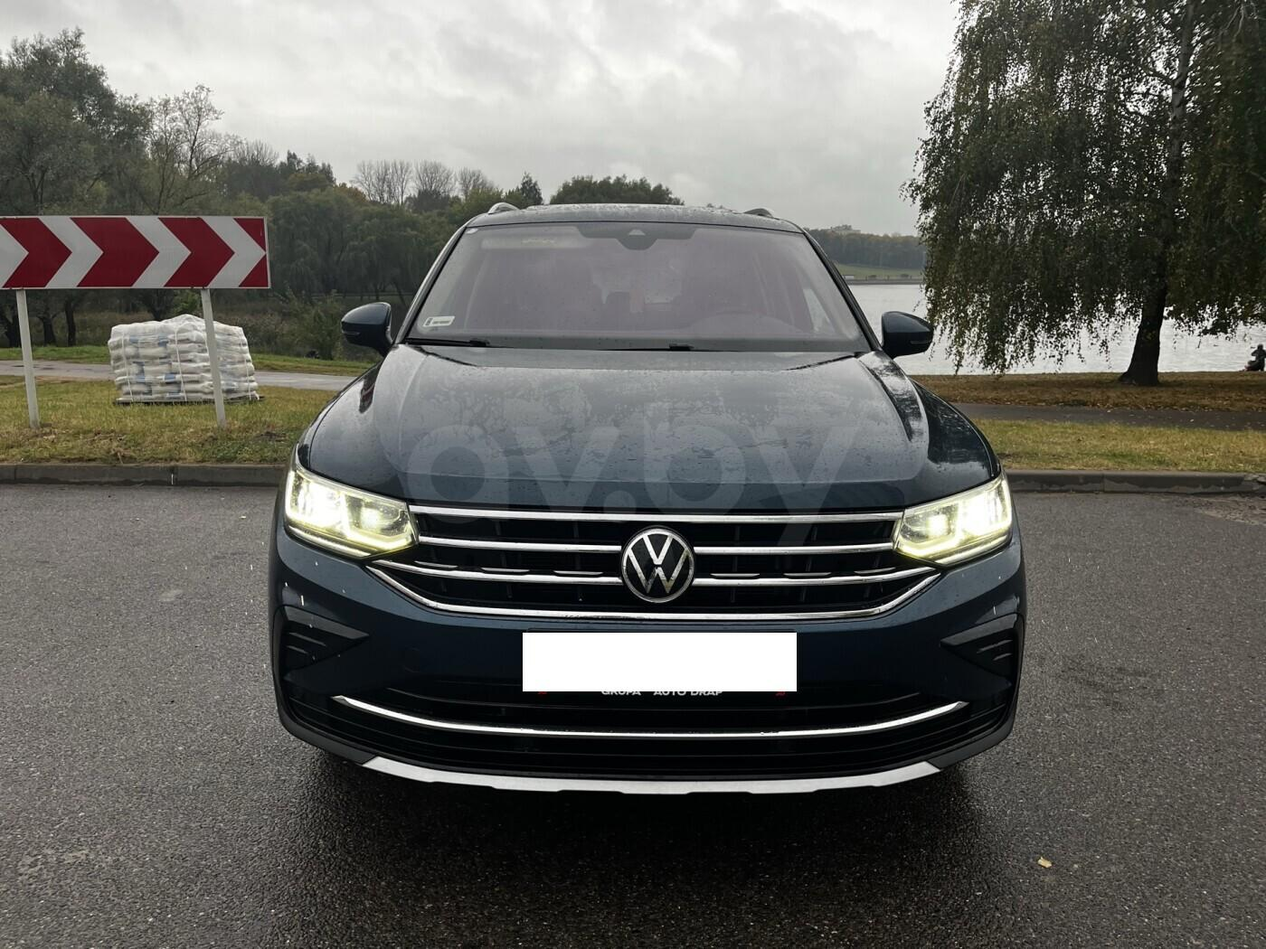Tiguan_2020-2024: (261, 196, 1030, 798)
